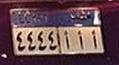4: (15, 31, 26, 53), (36, 31, 47, 52), (47, 30, 57, 51), (26, 31, 37, 50)
alif: (90, 30, 98, 50), (76, 31, 84, 49), (63, 30, 70, 50)
